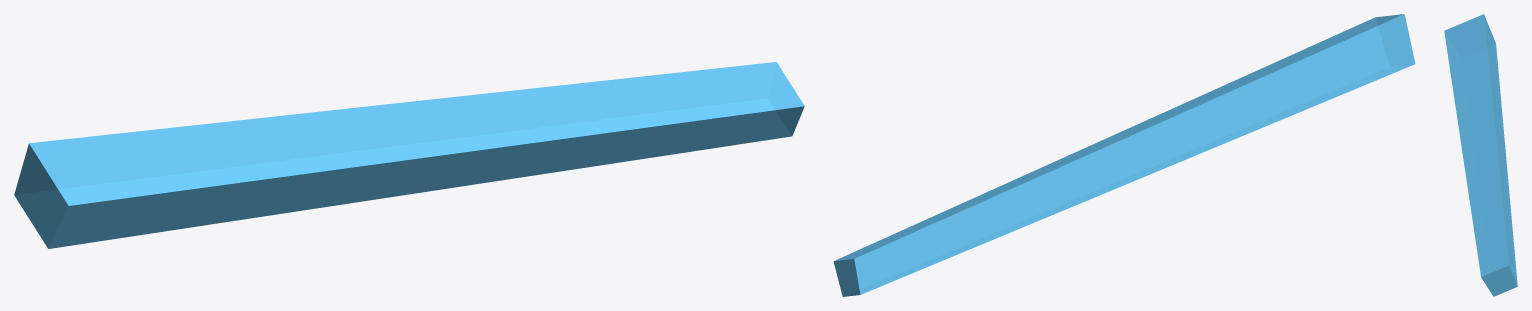
Rendered from Event_421364160_HErechit_53.fbx.
3 renders of one model, left to right at view 1: azimuth 30°, elevation 25°; view 2: azimuth 210°, elevation 25°; view 3: azimuth 270°, elevation 25°, orthographic. The views are drawn at different scales.
Visible parts, largest first — view 1: Model; view 2: Model; view 3: Model.
Part boxes in pixels (x1,y1,x2,y2): Model: [14, 62, 804, 248]; Model: [833, 14, 1415, 296]; Model: [1444, 14, 1517, 296].
Size of the model in its own units: 4.6 by 1.07 by 0.7567.
